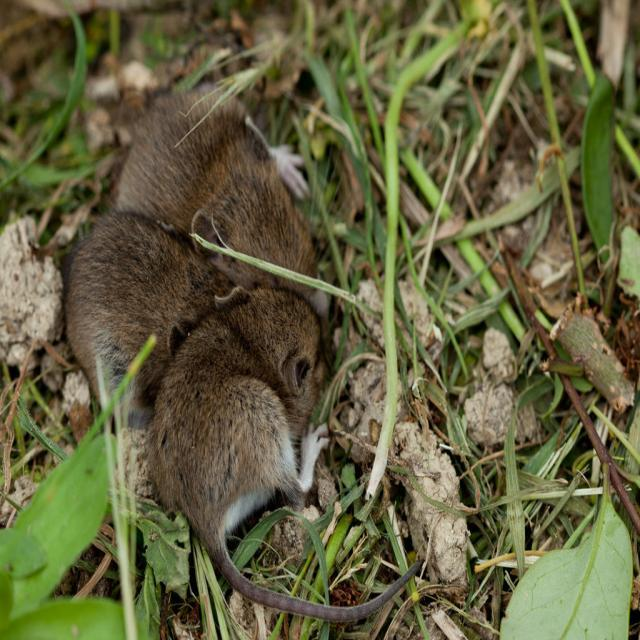rat: (144, 287, 429, 626), (114, 78, 336, 328), (64, 206, 232, 422)
